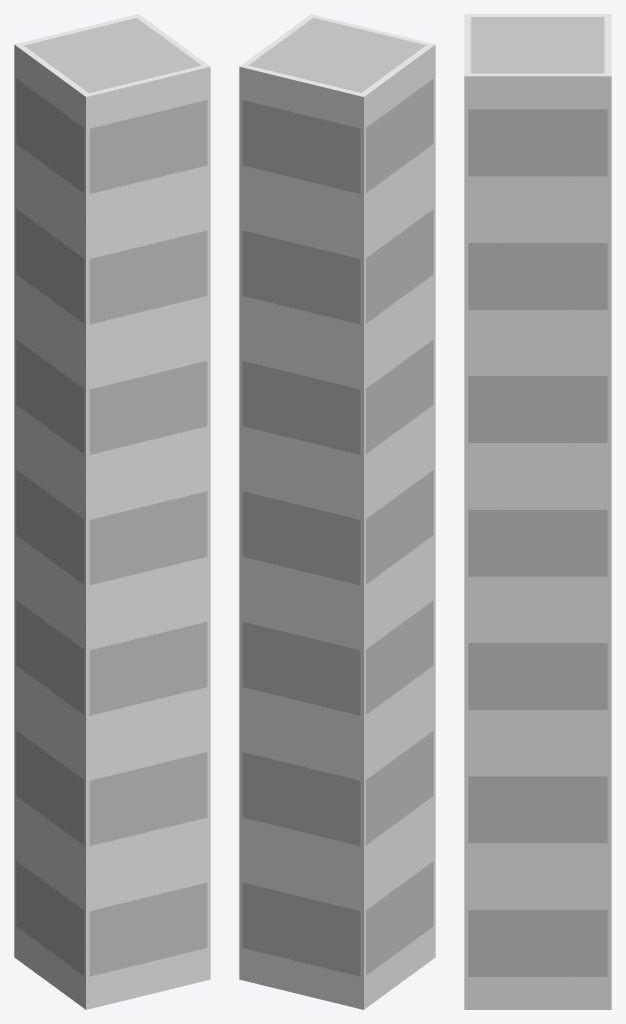
Rendered from theme_city_building.fbx.
The picture shows the model from 3 angles, left to right: view 1: azimuth 30°, elevation 25°; view 2: azimuth 150°, elevation 25°; view 3: azimuth 270°, elevation 25°; orthographic projection. The views are drawn at different scales.
Parts seen in each view (by area): view 1: Cube; view 2: Cube; view 3: Cube.
Part boxes in pixels (x1=…): Cube: x1=14, y1=14, x2=210, y2=1009; Cube: x1=239, y1=14, x2=435, y2=1009; Cube: x1=464, y1=14, x2=611, y2=1009.
Bounding box in the file's own units: 200 × 1400 × 200.
1 material, 1 textured.
